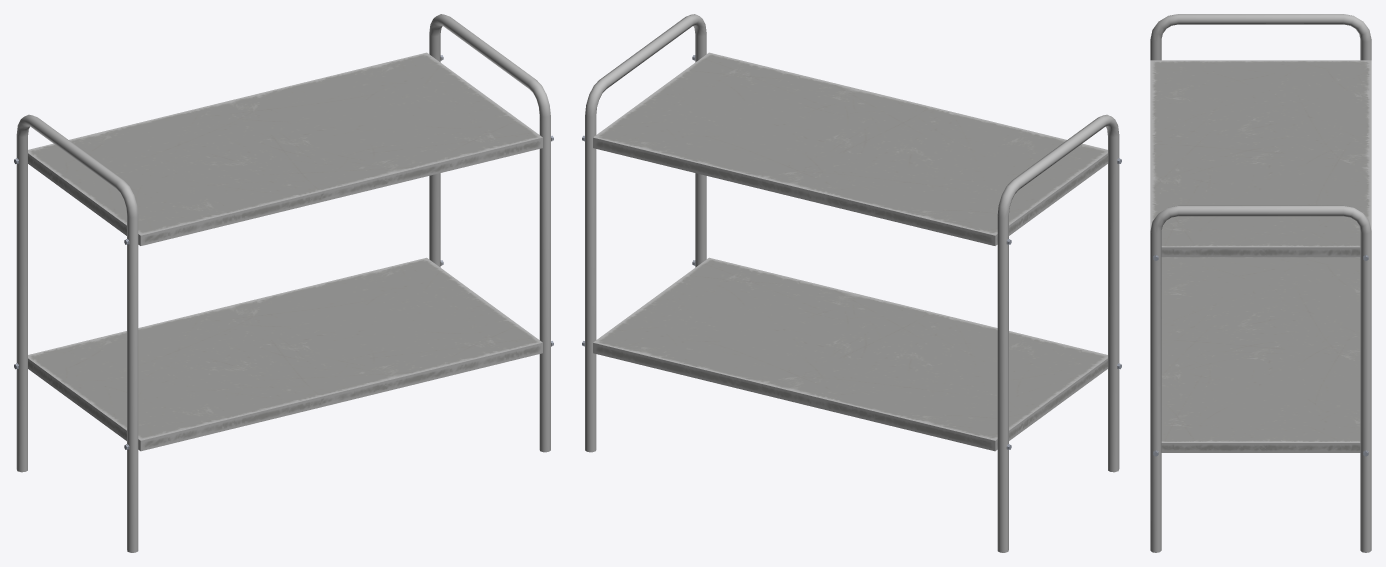
Rendered from Table.fbx.
3 views of the same model, side by side, from view 1: azimuth 30°, elevation 25°; view 2: azimuth 150°, elevation 25°; view 3: azimuth 270°, elevation 25° (orthographic). The views are drawn at different scales.
Parts seen in each view (by area): view 1: Table; view 2: Table; view 3: Table.
Part boxes in pixels (left/top/right/bottom): Table: left=14, top=14, right=553, bottom=552; Table: left=582, top=14, right=1121, bottom=552; Table: left=1150, top=14, right=1371, bottom=552.
Size of the model in its own units: 106 by 85.92 by 50.
